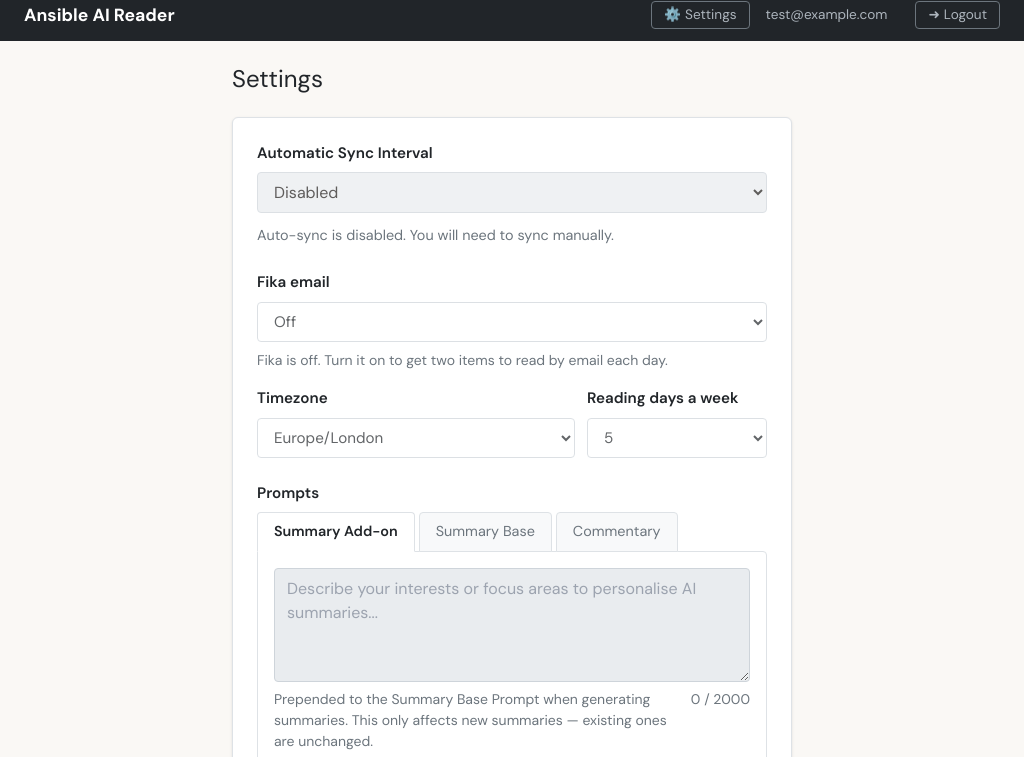
Scenario: SettingsContent › shows user message template with readable placeholders on Summary Base tab
Click the tab "Summary Base": coordinates (485, 532) [419,512,552,552]
(page scrolled)
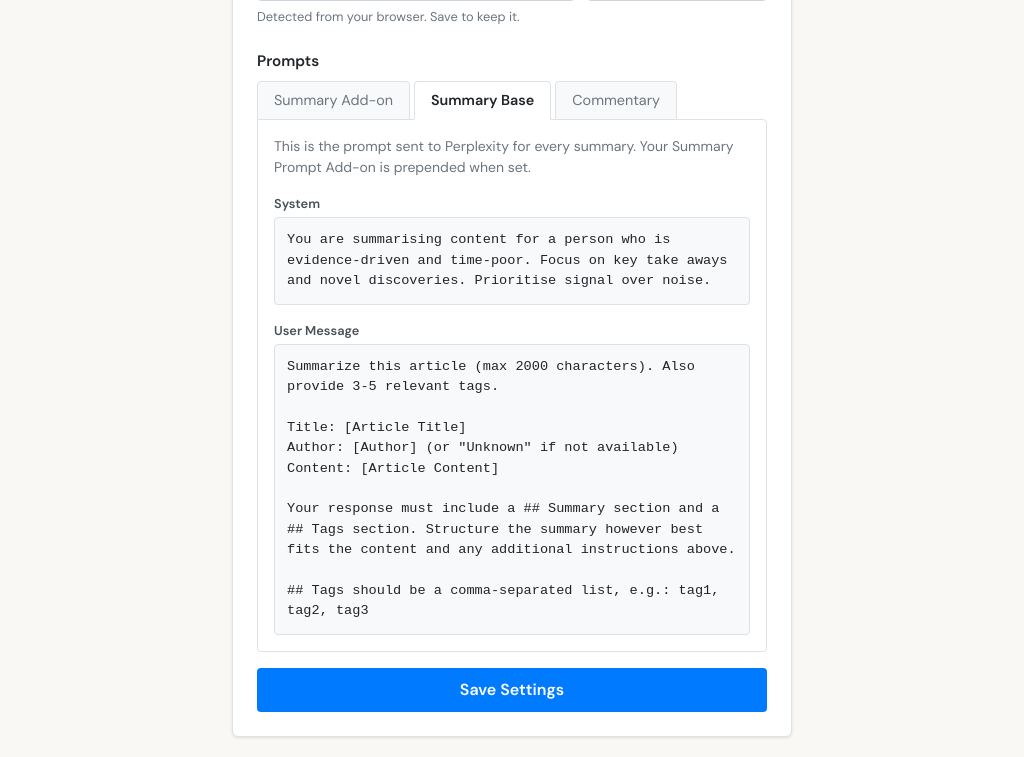
Check: the text "[Article Content]" is shown, box [287,359,736,618]
